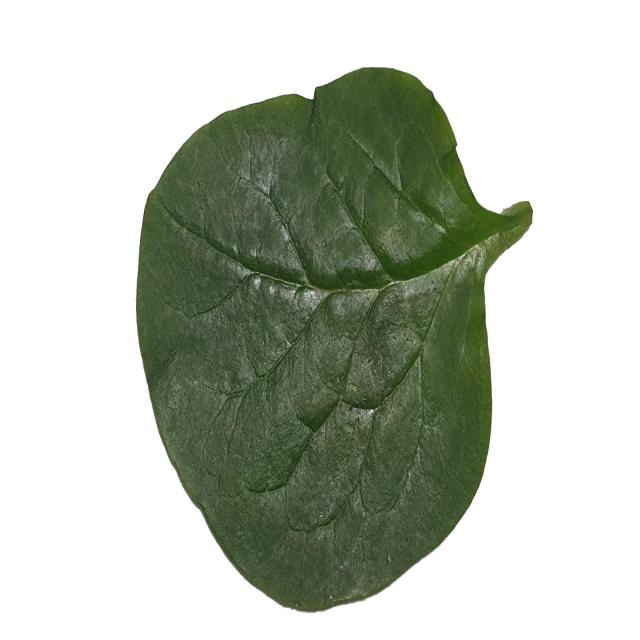Medicinal-Basale: (134, 66, 534, 612)
